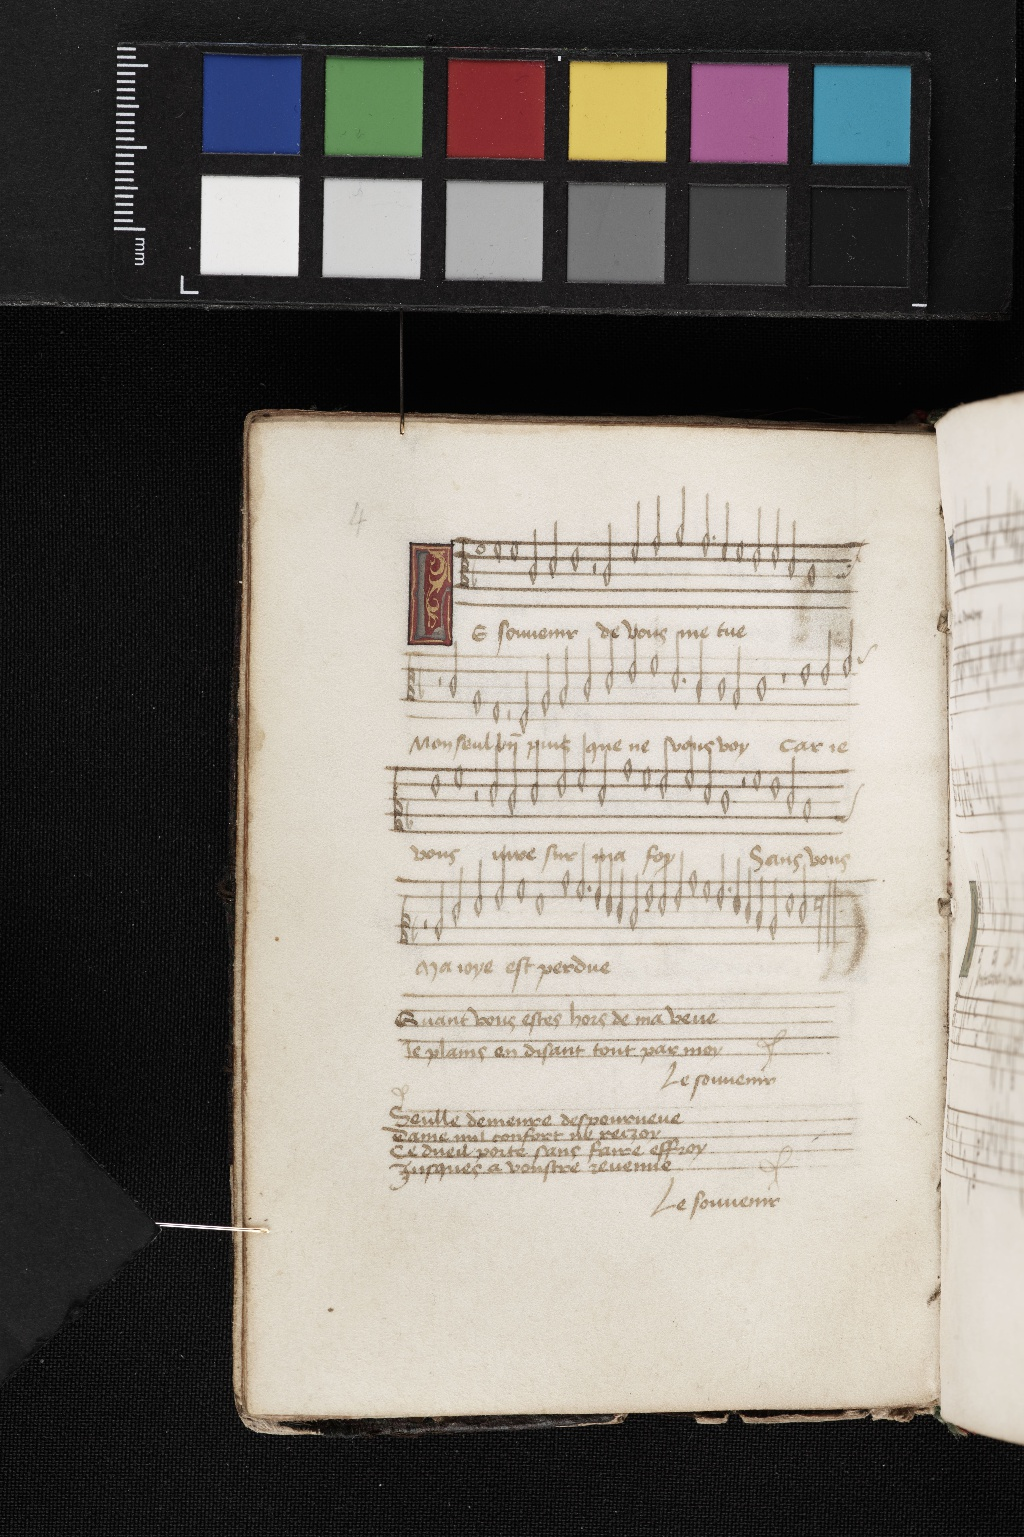c clef_9: (387, 762, 405, 839)
custos_9: (826, 776, 861, 844)
flat_10: (401, 796, 417, 836)
minim rest: (469, 771, 482, 835), (738, 768, 750, 832)
minim_4: (574, 741, 590, 799), (682, 738, 697, 795)
minim_5: (551, 742, 569, 804), (656, 734, 672, 804)
minim_6: (525, 742, 542, 812), (594, 750, 611, 812), (485, 746, 501, 811), (699, 749, 715, 810)
minim_7: (503, 747, 519, 822), (783, 757, 797, 820)
semibreve_3: (619, 752, 635, 787)
semibreve_4: (450, 759, 469, 798), (638, 759, 655, 796), (749, 763, 765, 798)
semibreve_5: (426, 766, 445, 804), (766, 771, 783, 804)
semibreve_7: (715, 783, 734, 820)
semibreve_8: (799, 794, 817, 828)
